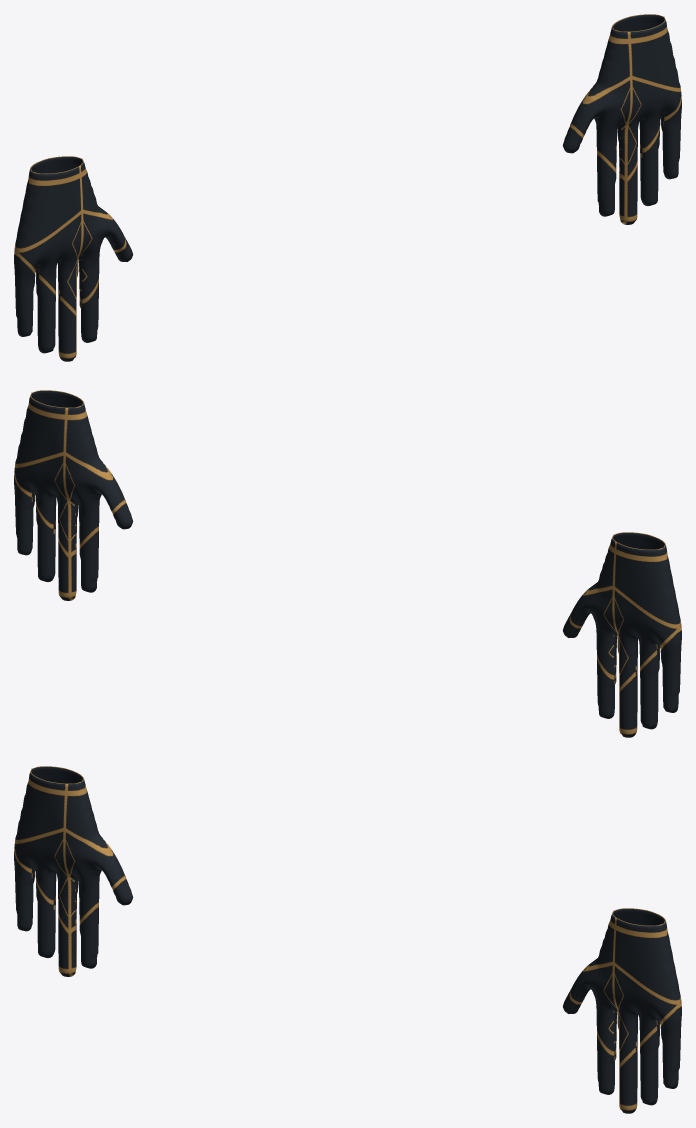
The model's file is SM_ObsidianSovereign_Gauntlets_preview_2K.glb.
3 renders of one model, top to bottom at view 1: azimuth 30°, elevation 25°; view 2: azimuth 150°, elevation 25°; view 3: azimuth 330°, elevation 25°, orthographic.
Visible parts, largest first — view 1: SM_ObsidianSovereign_Gauntlets_L, SM_ObsidianSovereign_Gauntlets_R; view 2: SM_ObsidianSovereign_Gauntlets_L, SM_ObsidianSovereign_Gauntlets_R; view 3: SM_ObsidianSovereign_Gauntlets_R, SM_ObsidianSovereign_Gauntlets_L.
Boxes of the visible parts, bbox=[...] form: SM_ObsidianSovereign_Gauntlets_L: bbox=[562, 14, 681, 224]; SM_ObsidianSovereign_Gauntlets_R: bbox=[14, 156, 133, 361]; SM_ObsidianSovereign_Gauntlets_L: bbox=[14, 390, 133, 600]; SM_ObsidianSovereign_Gauntlets_R: bbox=[562, 532, 681, 737]; SM_ObsidianSovereign_Gauntlets_R: bbox=[14, 766, 133, 976]; SM_ObsidianSovereign_Gauntlets_L: bbox=[562, 908, 681, 1113].
Size of the model in its own units: 0.8064 by 0.2299 by 0.038.
1 material, 1 textured.
